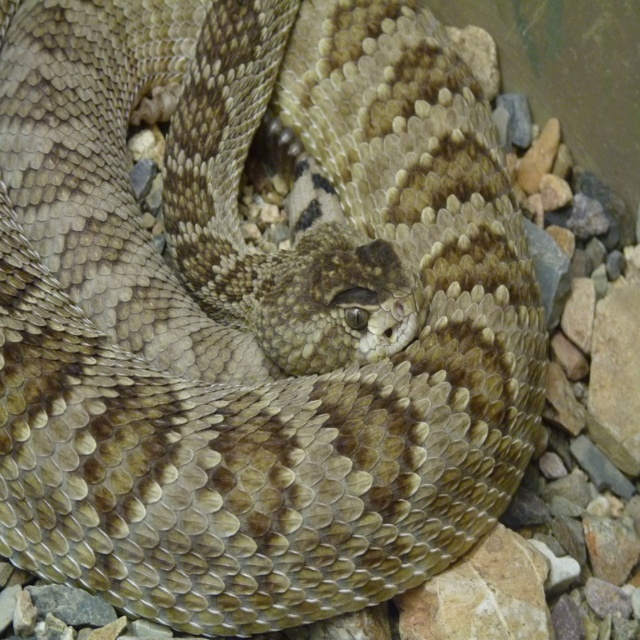Snake: (0, 0, 550, 639)
